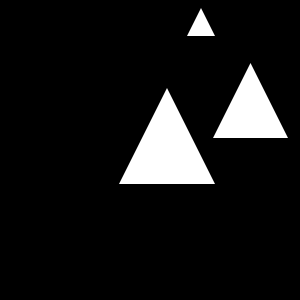triangle: (119, 88, 215, 184), (213, 63, 288, 138), (187, 8, 215, 36)
